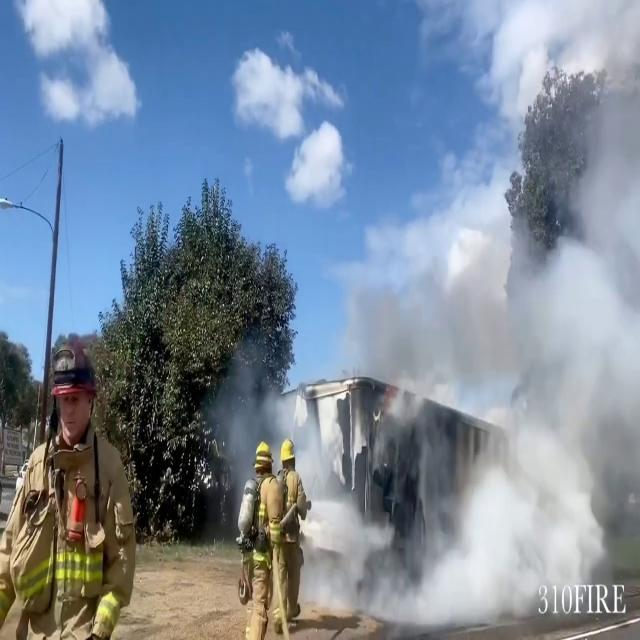Smoke: (231, 162, 639, 625)
